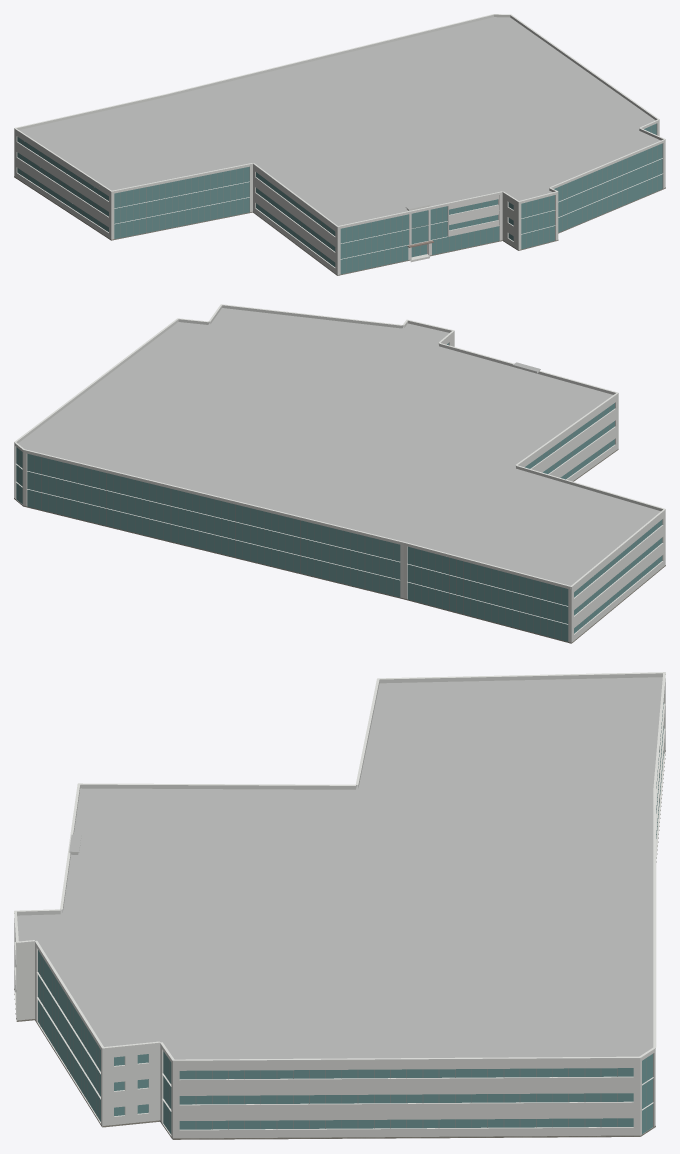
3 views of the same model, one above another, from view 1: azimuth 30°, elevation 25°; view 2: azimuth 150°, elevation 25°; view 3: azimuth 270°, elevation 25° (orthographic). The views are drawn at different scales.
Visible parts, largest first — view 1: osm136186601__roof, osm136186601__glass, osm136186601__wall, osm136186601__parapet, osm136186601__frame, osm136186601__trim, osm136186601__base; view 2: osm136186601__roof, osm136186601__glass, osm136186601__wall, osm136186601__parapet, osm136186601__frame, osm136186601__trim, osm136186601__base; view 3: osm136186601__roof, osm136186601__wall, osm136186601__glass, osm136186601__trim, osm136186601__parapet, osm136186601__frame, osm136186601__base.
Boxes of the visible parts, x1,y1,x2,y2 form: osm136186601__roof: (19,17,660,225); osm136186601__glass: (17,123,662,274); osm136186601__wall: (14,122,665,275); osm136186601__parapet: (14,14,665,229); osm136186601__frame: (22,126,657,272); osm136186601__trim: (14,14,665,227); osm136186601__base: (14,176,665,275); osm136186601__roof: (18,308,660,585); osm136186601__glass: (16,343,662,641); osm136186601__wall: (14,333,665,643); osm136186601__parapet: (14,305,665,589); osm136186601__frame: (19,407,657,639); osm136186601__trim: (14,304,665,587); osm136186601__base: (14,449,665,643); osm136186601__roof: (17,677,662,1139); osm136186601__wall: (14,679,665,1139); osm136186601__glass: (38,703,663,1134); osm136186601__trim: (14,672,665,1061); osm136186601__parapet: (16,673,662,1064); osm136186601__frame: (40,746,659,1132); osm136186601__base: (14,750,665,1139).
Bounding box in the file's own units: 119 × 12.25 × 84.69.
10 materials, 1 textured.
